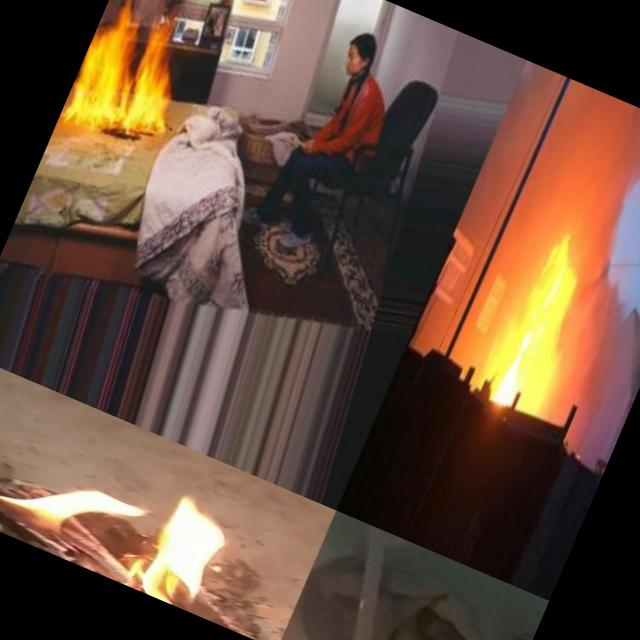fire: (0, 388, 327, 640), (60, 0, 205, 153), (475, 224, 591, 412)
smoke: (514, 78, 640, 253), (523, 243, 640, 429)
